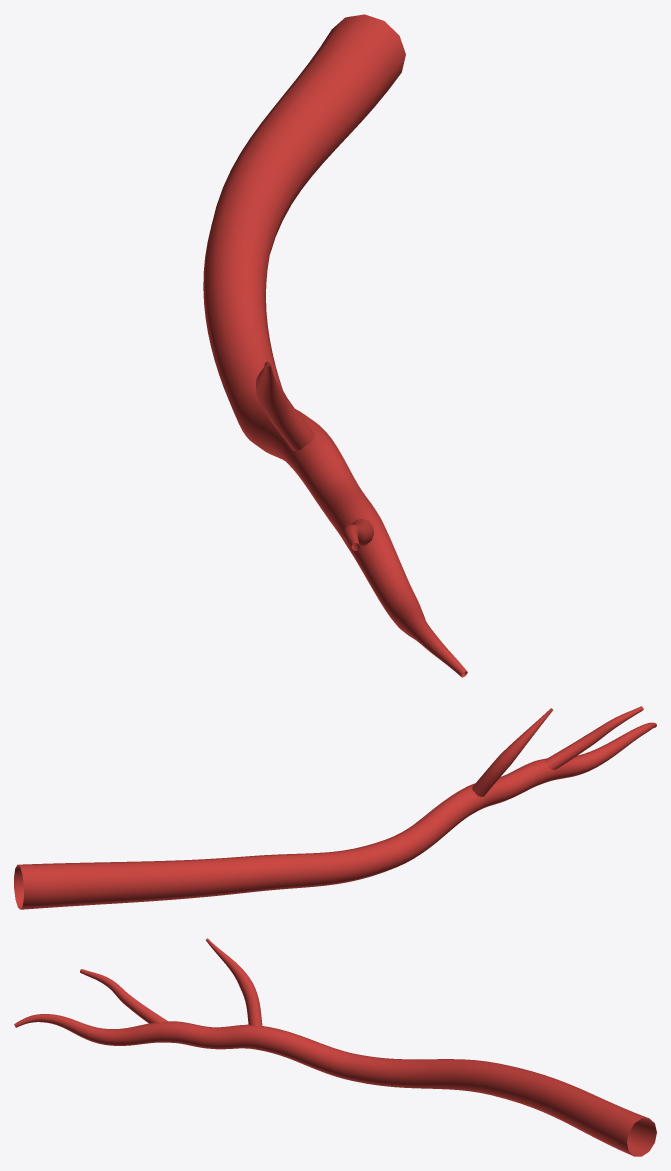
3 views of the same model, one above another, from view 1: azimuth 30°, elevation 25°; view 2: azimuth 150°, elevation 25°; view 3: azimuth 270°, elevation 25° (orthographic). The views are drawn at different scales.
Parts seen in each view (by area): view 1: 右侧颞深后动脉; view 2: 右侧颞深后动脉; view 3: 右侧颞深后动脉.
Part boxes in pixels (<box>): 右侧颞深后动脉: <box>203,14,467,677</box>; 右侧颞深后动脉: <box>14,706,656,909</box>; 右侧颞深后动脉: <box>14,938,656,1156</box>.
Bounding box in the file's own units: 0.0372 × 0.0128 × 0.0691.
